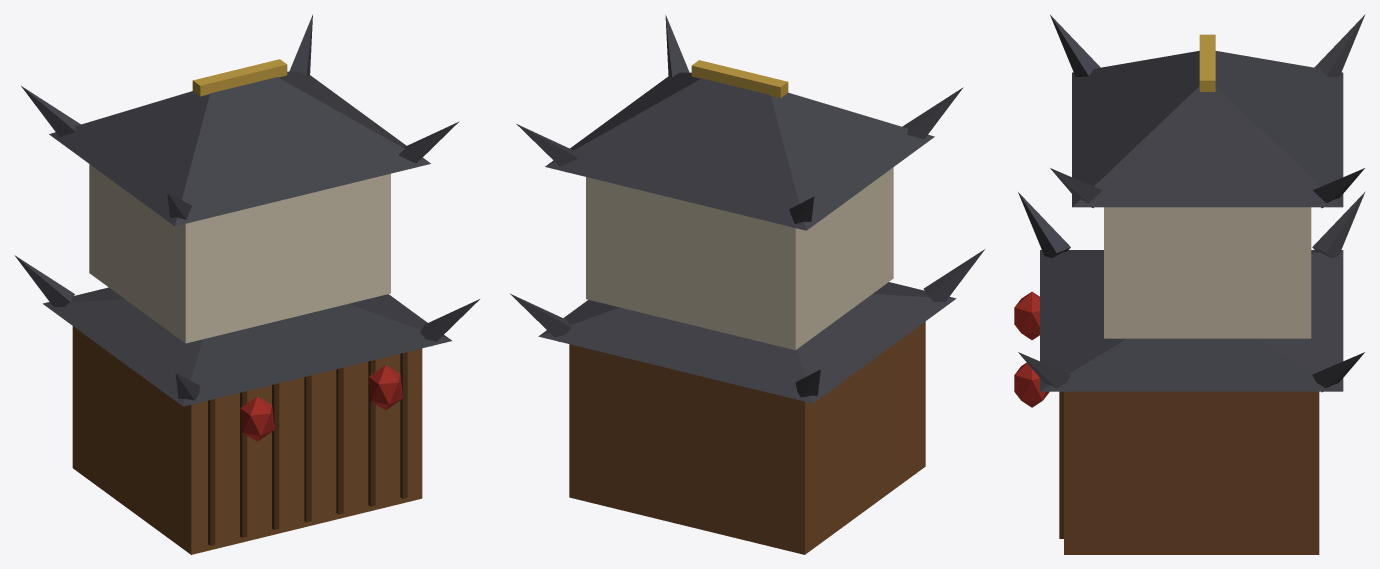
The model's file is macaque_house_b_broken.glb.
The picture shows the model from 3 angles, left to right: view 1: azimuth 30°, elevation 25°; view 2: azimuth 150°, elevation 25°; view 3: azimuth 270°, elevation 25°; orthographic projection. The views are drawn at different scales.
Parts seen in each view (by area): view 1: macaque_house_b_piece4, macaque_house_b_piece2, macaque_house_b_piece1, macaque_house_b_piece12, macaque_house_b_piece6, macaque_house_b_piece7, macaque_house_b_piece9, macaque_house_b_piece10, macaque_house_b_piece3, macaque_house_b_piece5; view 2: macaque_house_b_piece1, macaque_house_b_piece5, macaque_house_b_piece8, macaque_house_b_piece3, macaque_house_b_piece7, macaque_house_b_piece4, macaque_house_b_piece9, macaque_house_b_piece10, macaque_house_b_piece0, macaque_house_b_piece2, macaque_house_b_piece6; view 3: macaque_house_b_piece12, macaque_house_b_piece4, macaque_house_b_piece3, macaque_house_b_piece2, macaque_house_b_piece0, macaque_house_b_piece1, macaque_house_b_piece11, macaque_house_b_piece5, macaque_house_b_piece6, macaque_house_b_piece8, macaque_house_b_piece7, macaque_house_b_piece9.
Part boxes in pixels (<box>): macaque_house_b_piece4: <box>135,59,343,433</box>; macaque_house_b_piece2: <box>180,102,459,497</box>; macaque_house_b_piece1: <box>14,86,174,534</box>; macaque_house_b_piece12: <box>284,126,479,513</box>; macaque_house_b_piece6: <box>172,204,400,554</box>; macaque_house_b_piece7: <box>86,101,175,476</box>; macaque_house_b_piece9: <box>164,322,360,552</box>; macaque_house_b_piece10: <box>167,269,206,492</box>; macaque_house_b_piece3: <box>199,14,344,360</box>; macaque_house_b_piece5: <box>160,91,194,142</box>; macaque_house_b_piece1: <box>701,185,909,554</box>; macaque_house_b_piece5: <box>651,101,832,528</box>; macaque_house_b_piece8: <box>578,133,701,519</box>; macaque_house_b_piece3: <box>510,101,882,403</box>; macaque_house_b_piece7: <box>707,132,938,410</box>; macaque_house_b_piece4: <box>591,60,984,343</box>; macaque_house_b_piece9: <box>569,406,921,513</box>; macaque_house_b_piece10: <box>699,224,924,534</box>; macaque_house_b_piece0: <box>538,304,624,466</box>; macaque_house_b_piece2: <box>637,15,926,407</box>; macaque_house_b_piece6: <box>906,400,925,469</box>; macaque_house_b_piece12: <box>1017,196,1293,554</box>; macaque_house_b_piece4: <box>1018,15,1253,272</box>; macaque_house_b_piece3: <box>1101,55,1364,390</box>; macaque_house_b_piece2: <box>1014,124,1212,339</box>; macaque_house_b_piece0: <box>1215,262,1343,551</box>; macaque_house_b_piece1: <box>1301,14,1365,307</box>; macaque_house_b_piece11: <box>1161,170,1261,273</box>; macaque_house_b_piece5: <box>1221,51,1343,333</box>; macaque_house_b_piece6: <box>1014,220,1136,394</box>; macaque_house_b_piece8: <box>1272,104,1343,364</box>; macaque_house_b_piece7: <box>1078,57,1335,253</box>; macaque_house_b_piece9: <box>1278,524,1319,554</box>.
Size of the model in its own units: 2.38 by 3.02 by 2.2.
